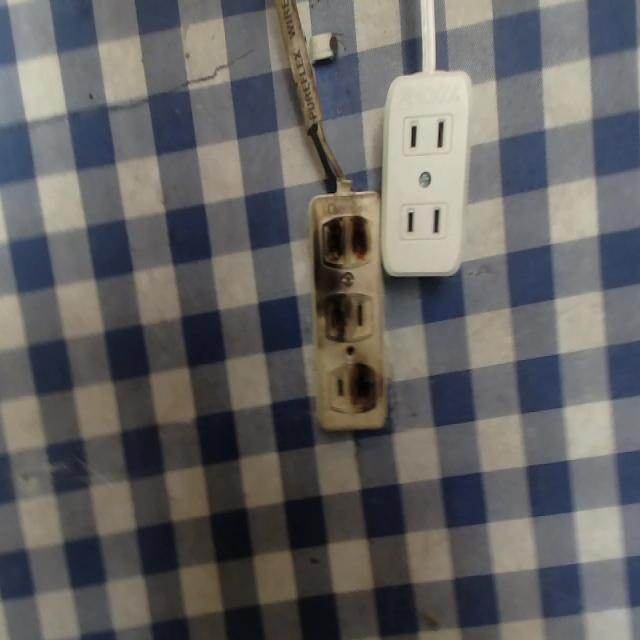-: (312, 213, 374, 276), (314, 288, 356, 348), (344, 360, 383, 423)
